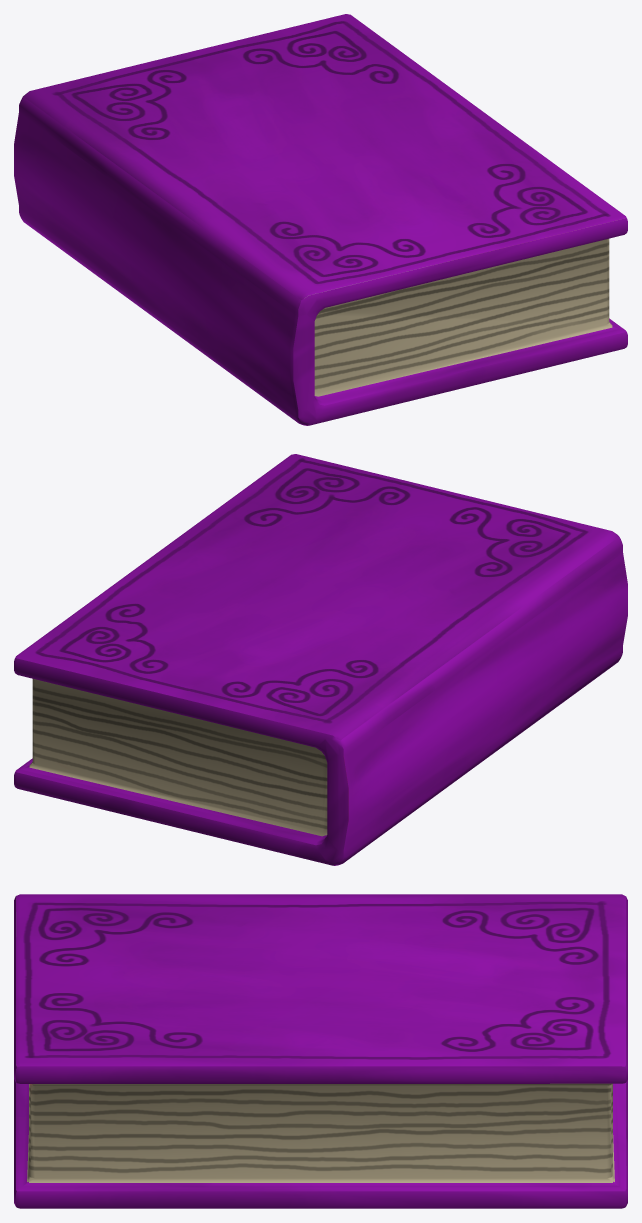
Rendered from purple_book.fbx.
The picture shows the model from 3 angles, top to bottom: view 1: azimuth 30°, elevation 25°; view 2: azimuth 150°, elevation 25°; view 3: azimuth 270°, elevation 25°; orthographic projection. The views are drawn at different scales.
Parts seen in each view (by area): view 1: Cube; view 2: Cube; view 3: Cube.
Part boxes in pixels (left/top/right/bottom): Cube: left=14, top=14, right=627, bottom=425; Cube: left=14, top=454, right=627, bottom=865; Cube: left=14, top=894, right=627, bottom=1208.
Size of the model in its own units: 2083 by 786 by 3003.
Materials: 1 (1 with a texture image).
